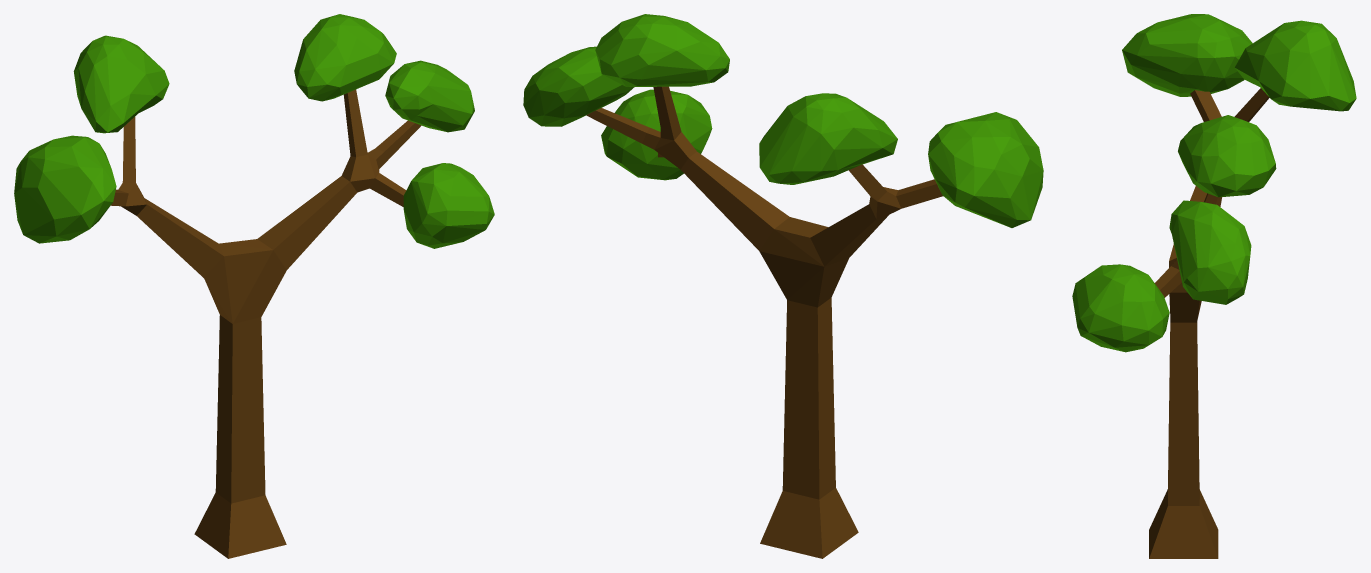
File: ThinTree.fbx
3 renders of one model, left to right at view 1: azimuth 30°, elevation 25°; view 2: azimuth 150°, elevation 25°; view 3: azimuth 270°, elevation 25°, orthographic. The views are drawn at different scales.
Visible parts, largest first — view 1: Thin_Tree; view 2: Thin_Tree; view 3: Thin_Tree.
Part boxes in pixels (bbox=[...]): Thin_Tree: bbox=[14, 14, 494, 558]; Thin_Tree: bbox=[523, 14, 1043, 558]; Thin_Tree: bbox=[1072, 14, 1356, 558].
Size of the model in its own units: 594 by 588 by 313.
